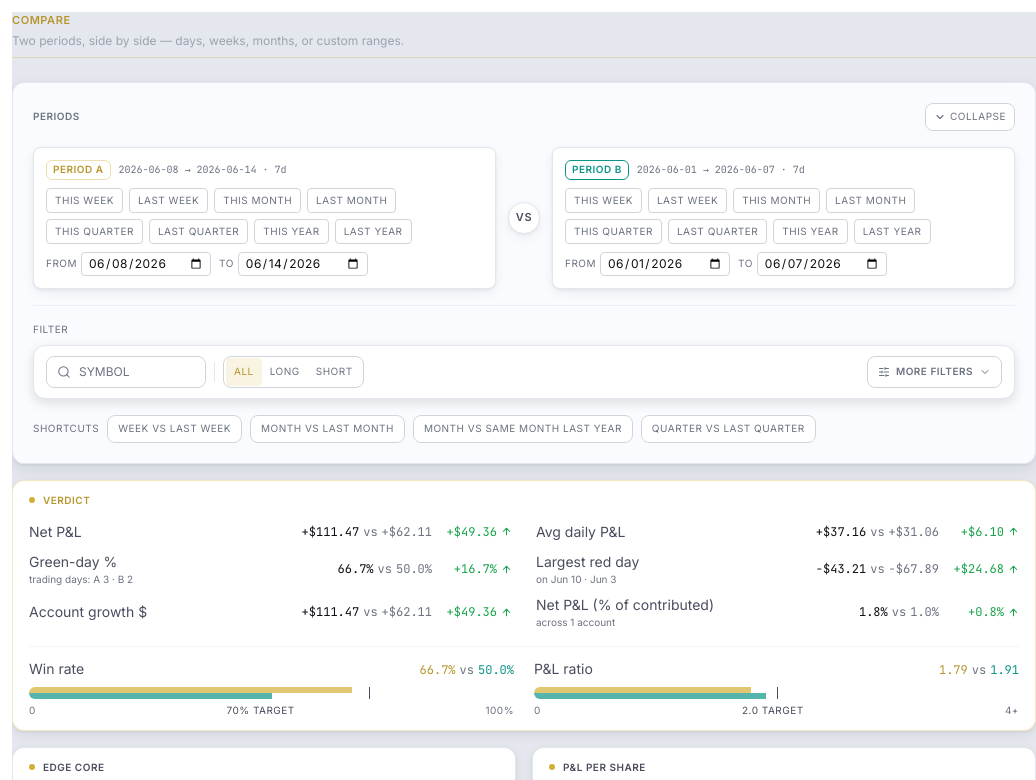
AnalyticsCompareTab — mistake filter (Dave #14 A) › (4) GROWTH GATE: filter active -> row hidden behind the honest sub-line; cleared -> ledger values return UNCHANGED
Expected: the text "Net P&L (% of contributed)" is shown, [536,594,714,614]
Expected: the text "1.8%" is shown, [859,604,888,620]
Click the button "More filters". click: x=934, y=372
box: [867,356,1002,388]
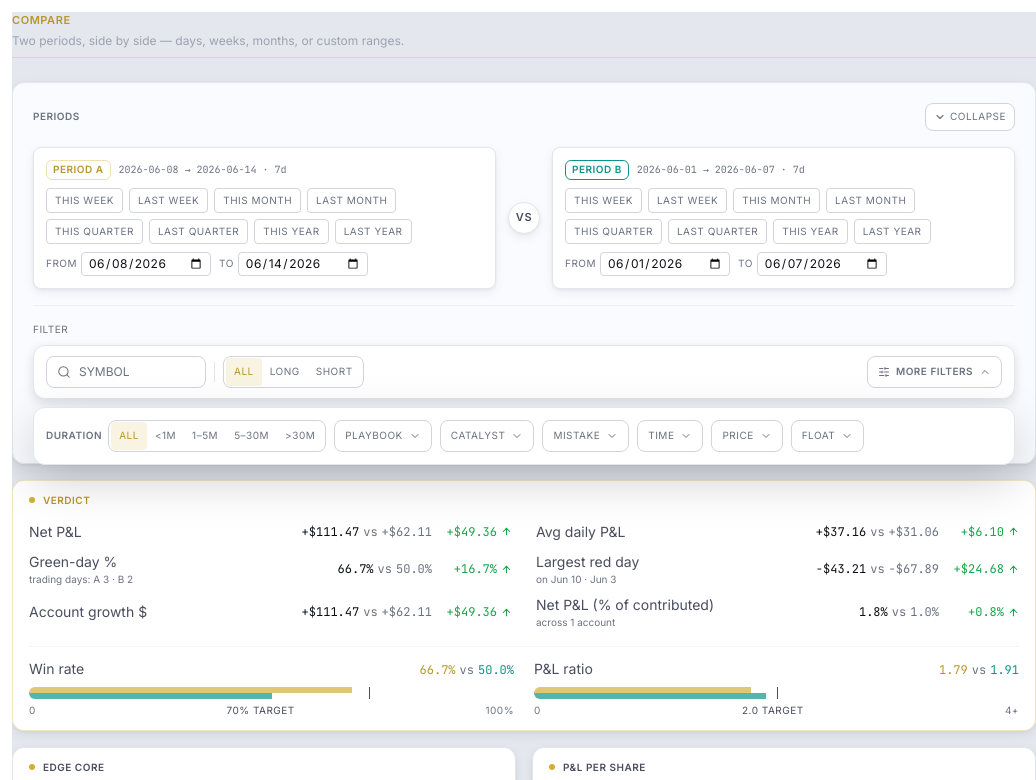
Click the button "Mistake". click: x=586, y=436
box: [542,420,629,452]
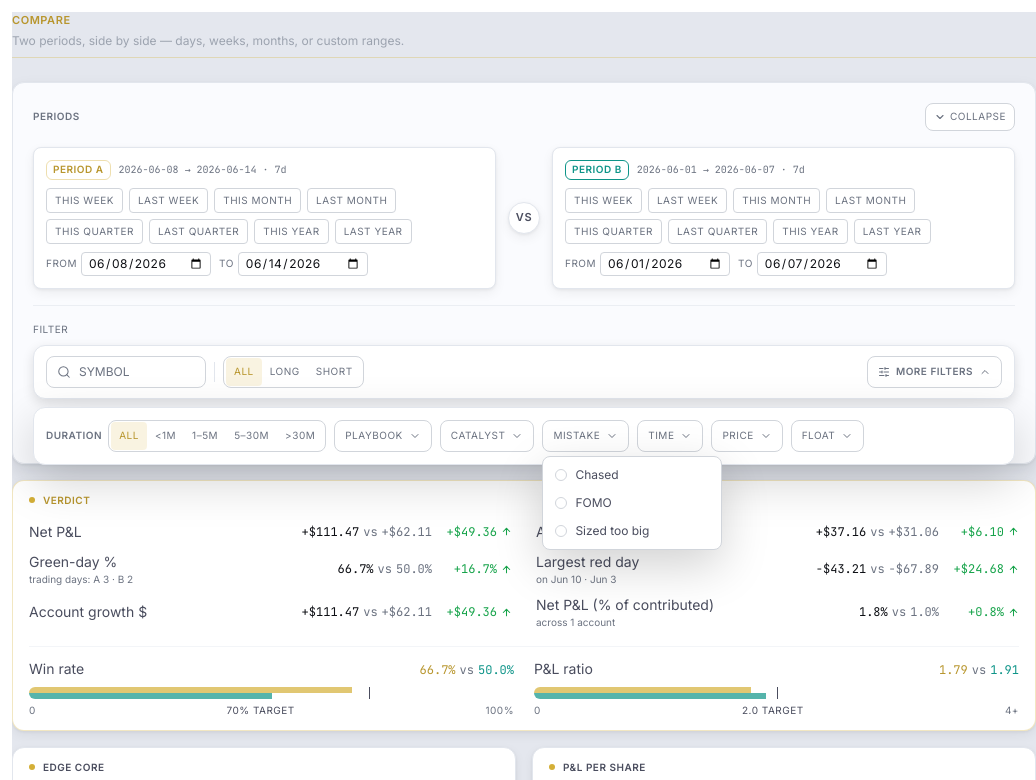
Click the button "FOMO". click: x=632, y=502
box: [547,488,717,516]
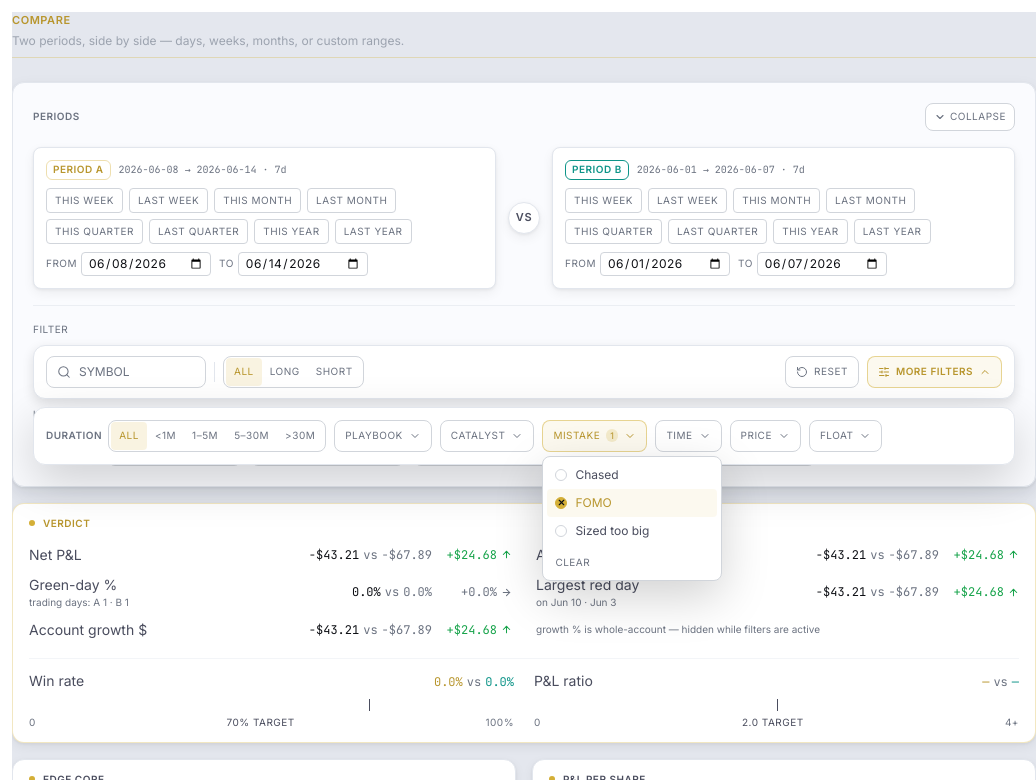
Now the text "Net P&L (% of contributed)" is gone
Now the text "growth % is whole-account — hidden while filters are active" is shown, box [536,622,820,637]
Now the text "1.8%" is not shown
Click the button "Clear". click: x=632, y=562
box: [547,548,717,576]
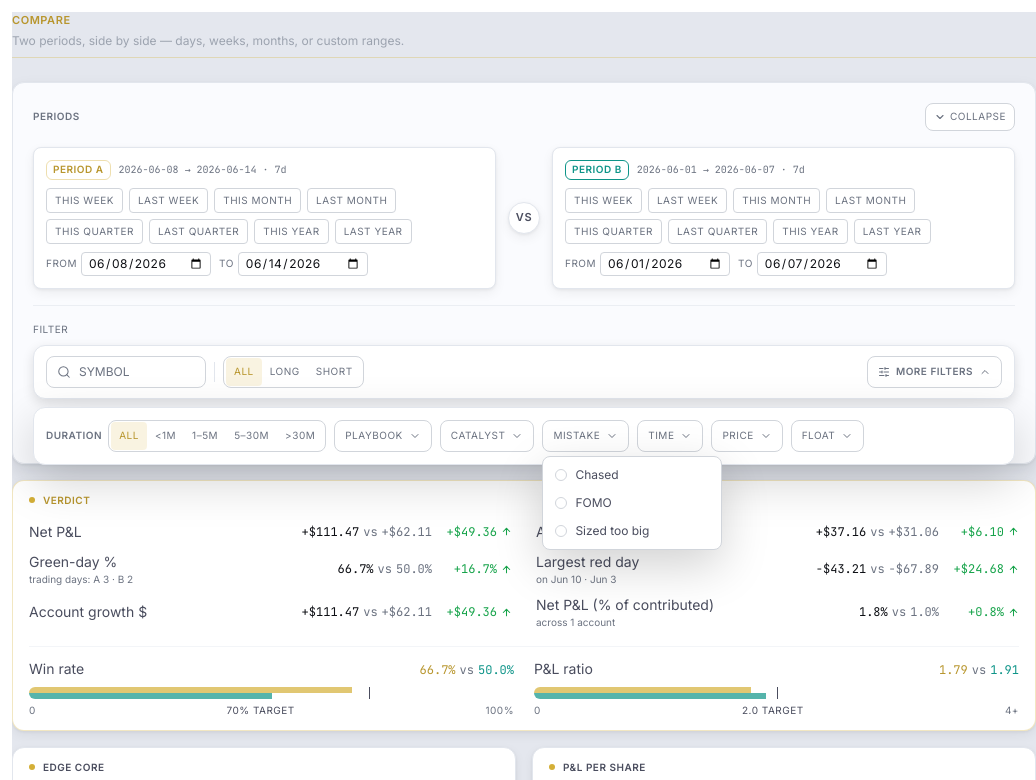
Now the text "Net P&L (% of contributed)" is shown, box [536,594,714,614]
Now the text "1.8%" is shown, box [859,604,888,620]
Now the text "hidden while filters are active" is gone
